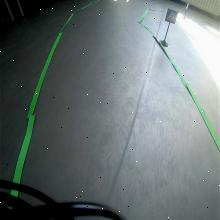crosswalk: (164, 8, 178, 25)
